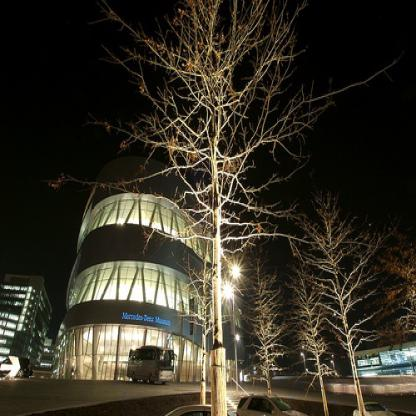bus: (126, 344, 175, 386)
